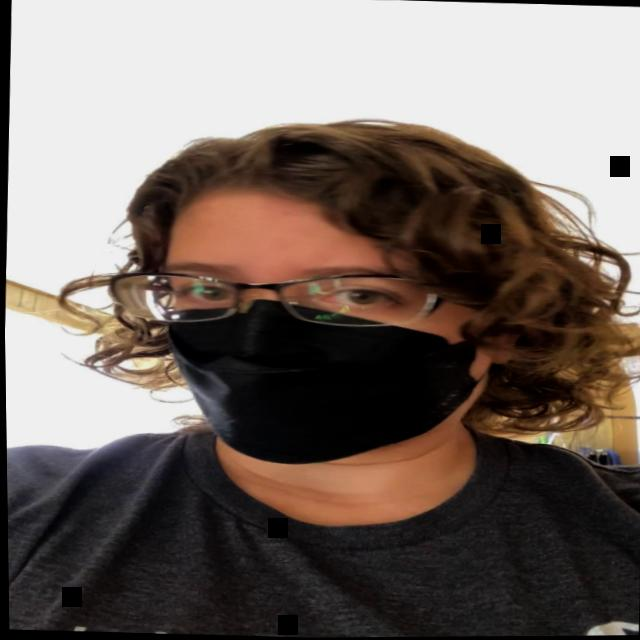Mask: (152, 186, 488, 470)
